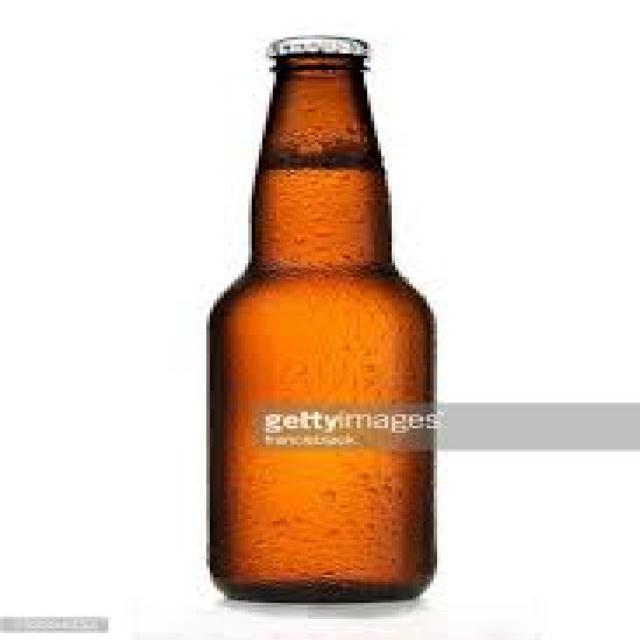glass: (203, 54, 434, 601)
metal: (266, 35, 364, 53)
